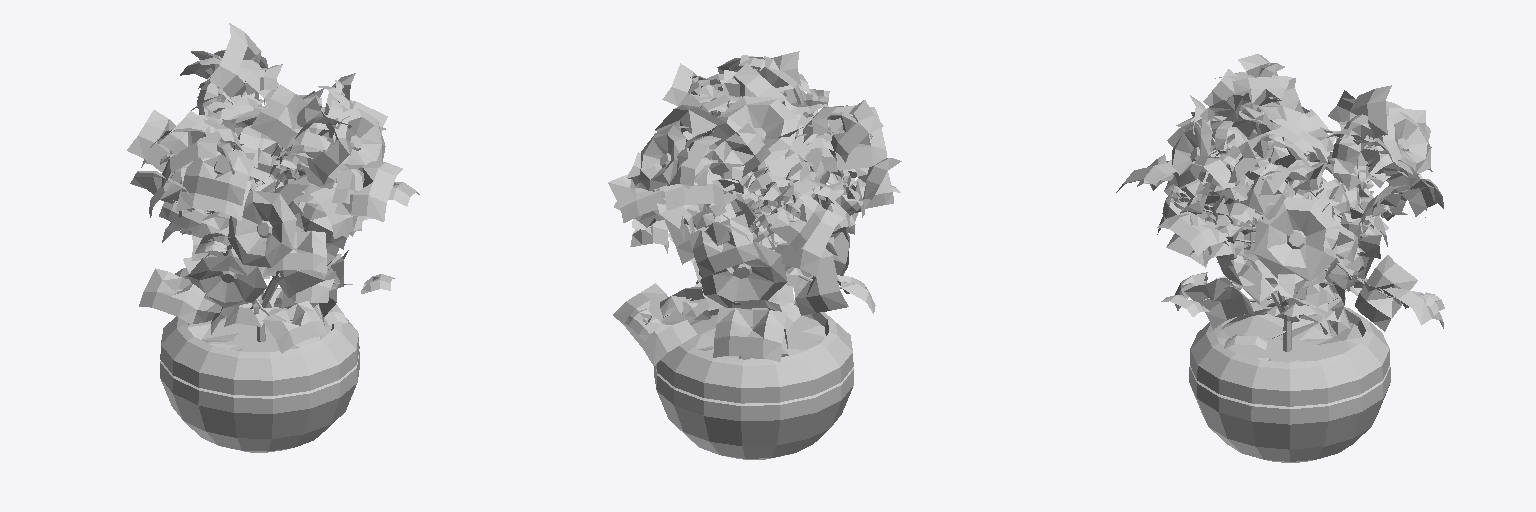
The model's file is plant 3.obj.
The picture shows the model from 3 angles: view 1: azimuth 30°, elevation 25°; view 2: azimuth 150°, elevation 25°; view 3: azimuth 270°, elevation 25°; orthographic projection.
Parts seen in each view (by area): view 1: leaves_3, flowers_and_pot, plant_3_trunk; view 2: leaves_3, flowers_and_pot; view 3: leaves_3, flowers_and_pot, plant_3_trunk.
Part boxes in pixels (x1,y1,x2,y2): leaves_3: (127,23,419,353); flowers_and_pot: (160,50,385,452); plant_3_trunk: (173,99,352,341); leaves_3: (608,51,901,365); flowers_and_pot: (638,57,854,459); leaves_3: (1116,54,1444,349); flowers_and_pot: (1164,102,1430,462); plant_3_trunk: (1171,149,1403,351).
Bounding box in the file's own units: 23.83 × 33.28 × 27.